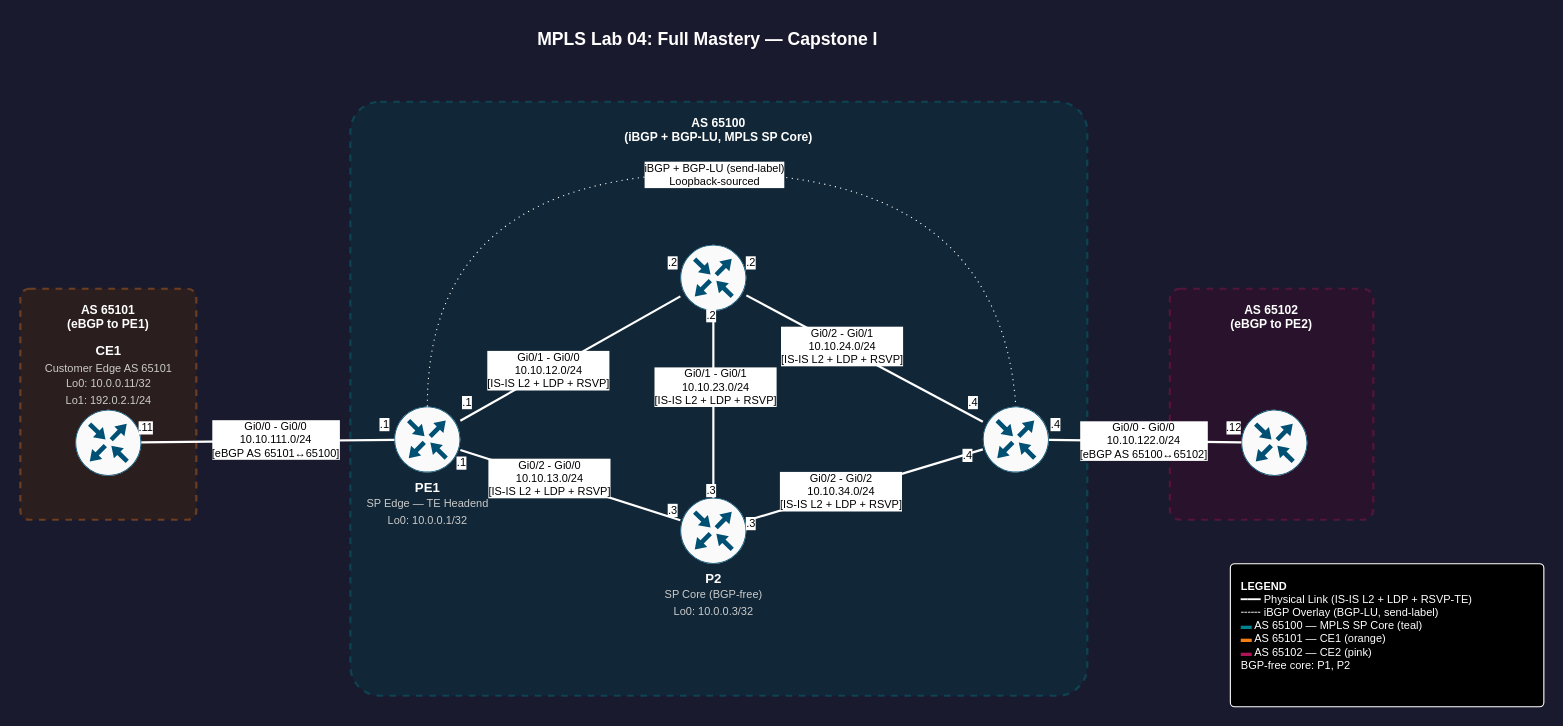
This 1563x726 diagram has some shape labels left out. The shapes that lost their labels are listed below. From the top down, each one's centre as x and y in pixels, then its label:
At (712,277): "P1 SP Core (BGP-free) Lo0: 10.0.0.2/32".
At (1015,438): "PE2 SP Edge — TE Tail Lo0: 10.0.0.4/32".
At (1273,442): "CE2 Customer Edge AS 65102 Lo0: 10.0.0.12/32 Lo1: 198.51.100.1/24".
